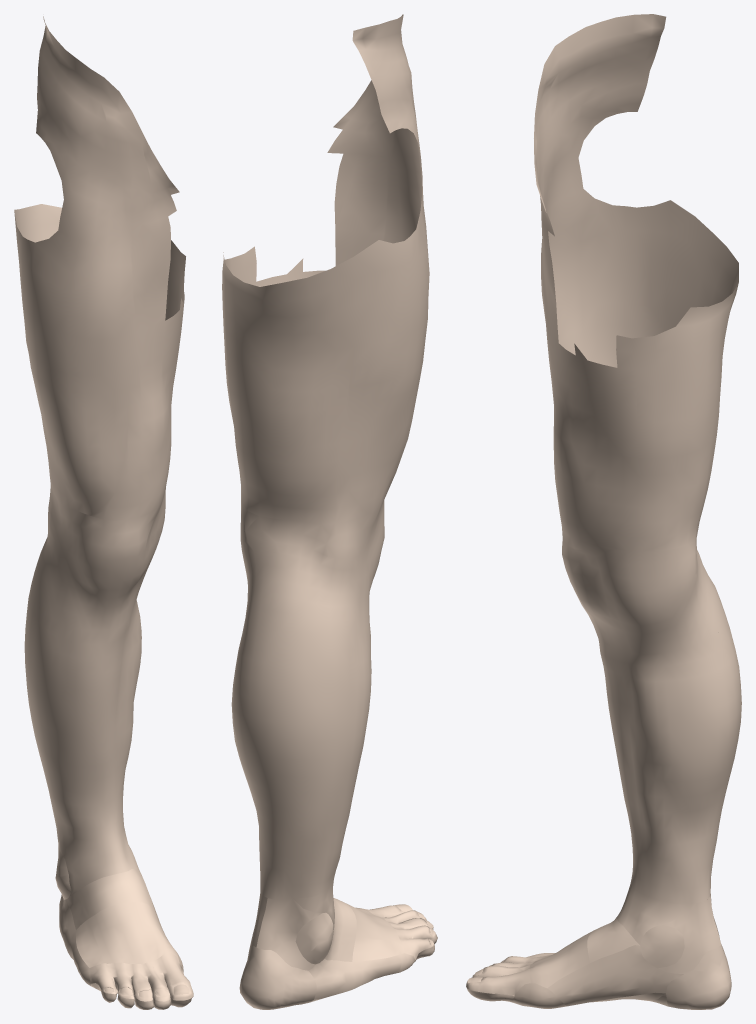
The model's file is lod1-leg-right-skin.glb.
The picture shows the model from 3 angles, left to right: view 1: azimuth 30°, elevation 25°; view 2: azimuth 150°, elevation 25°; view 3: azimuth 270°, elevation 25°; orthographic projection. The views are drawn at different scales.
Visible parts, largest first — view 1: part::Anterior region of thigh.r, part::Anterior region of leg.r, part::Anterior region of knee.r, part::Metatarsal region.r, part::Posterior region of thigh.r, part::Dorsal surfaces of digits of foot.r, part::Anterior region of ankle.r, part::Posterior region of leg.r, part::Dorsum of foot.r, part::Femoral triangle.r, part::Posterior region of knee.r, part::Lateral border of foot.r (+3 smaller); view 2: part::Posterior region of thigh.r, part::Posterior region of leg.r, part::Anterior region of thigh.r, part::Posterior region of knee.r, part::Heel region.r, part::Popliteal fossa.r, part::Lateral retromalleolar region.r, part::Lateral border of foot.r, part::Femoral triangle.r, part::Metatarsal region.r, part::Dorsal surfaces of digits of foot.r, part::Anterior region of knee.r (+4 smaller); view 3: part::Anterior region of thigh.r, part::Posterior region of thigh.r, part::Posterior region of leg.r, part::Anterior region of leg.r, part::Anterior region of knee.r, part::Posterior region of knee.r, part::Medial border of foot.r, part::Heel region.r, part::Medial retromalleolar region.r, part::Anterior region of ankle.r, part::Dorsal surfaces of digits of foot.r, part::Metatarsal region.r (+4 smaller).
Part boxes in pixels (left/top/right/bottom): part::Anterior region of thigh.r: left=27, top=16, right=185, bottom=520; part::Anterior region of leg.r: left=37, top=593, right=141, bottom=839; part::Anterior region of knee.r: left=49, top=487, right=165, bottom=618; part::Metatarsal region.r: left=76, top=902, right=177, bottom=967; part::Posterior region of thigh.r: left=14, top=204, right=180, bottom=500; part::Dorsal surfaces of digits of foot.r: left=89, top=953, right=193, bottom=1001; part::Anterior region of ankle.r: left=56, top=826, right=139, bottom=896; part::Posterior region of leg.r: left=24, top=572, right=63, bottom=833; part::Dorsum of foot.r: left=65, top=869, right=154, bottom=929; part::Femoral triangle.r: left=141, top=131, right=179, bottom=280; part::Posterior region of knee.r: left=34, top=485, right=61, bottom=598; part::Lateral border of foot.r: left=59, top=899, right=90, bottom=985; part::Posterior region of thigh.r: left=222, top=236, right=412, bottom=524; part::Posterior region of leg.r: left=231, top=618, right=364, bottom=899; part::Anterior region of thigh.r: left=243, top=14, right=429, bottom=513; part::Posterior region of knee.r: left=240, top=499, right=371, bottom=636; part::Heel region.r: left=239, top=941, right=316, bottom=1009; part::Popliteal fossa.r: left=246, top=516, right=327, bottom=564; part::Lateral retromalleolar region.r: left=256, top=898, right=322, bottom=970; part::Lateral border of foot.r: left=308, top=953, right=415, bottom=999; part::Femoral triangle.r: left=327, top=80, right=376, bottom=226; part::Metatarsal region.r: left=342, top=901, right=404, bottom=961; part::Dorsal surfaces of digits of foot.r: left=367, top=904, right=435, bottom=959; part::Anterior region of knee.r: left=359, top=500, right=384, bottom=630; part::Anterior region of thigh.r: left=535, top=14, right=666, bottom=551; part::Posterior region of thigh.r: left=624, top=200, right=738, bottom=551; part::Posterior region of leg.r: left=661, top=614, right=741, bottom=904; part::Anterior region of leg.r: left=598, top=639, right=673, bottom=902; part::Anterior region of knee.r: left=562, top=527, right=660, bottom=654; part::Posterior region of knee.r: left=640, top=538, right=725, bottom=652; part::Medial border of foot.r: left=547, top=945, right=683, bottom=1006; part::Heel region.r: left=666, top=944, right=731, bottom=1009; part::Medial retromalleolar region.r: left=658, top=896, right=720, bottom=974; part::Anterior region of ankle.r: left=617, top=884, right=696, bottom=945; part::Dorsal surfaces of digits of foot.r: left=466, top=953, right=555, bottom=995; part::Metatarsal region.r: left=529, top=931, right=592, bottom=987.
Bounding box in the file's own units: 0.1803 × 1.02 × 0.2641.
